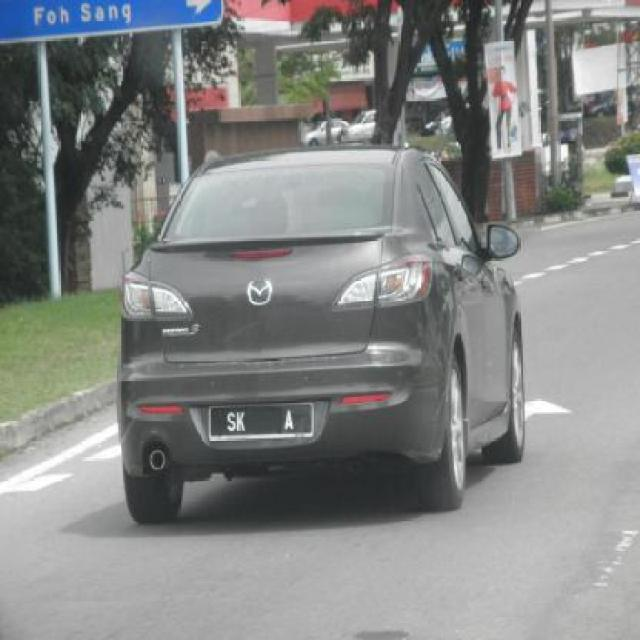Licenseplate: (201, 401, 318, 436)
